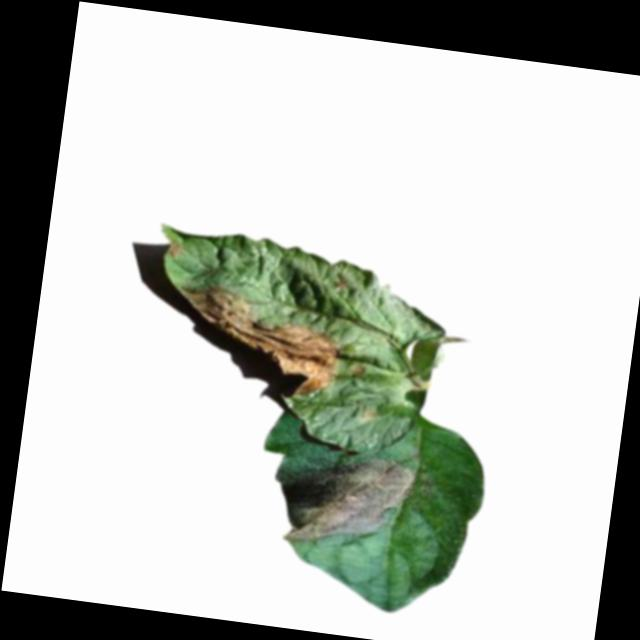Late_blight: (169, 280, 348, 402), (267, 442, 419, 558), (165, 238, 186, 261)
